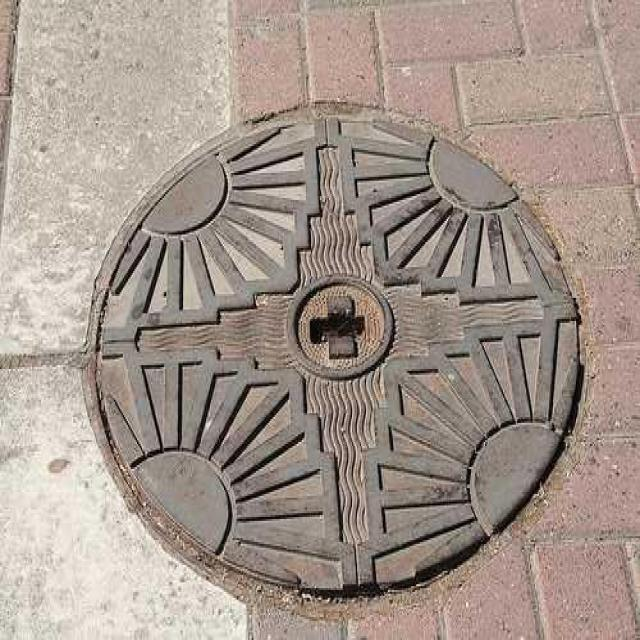manhole: (82, 103, 581, 635)
